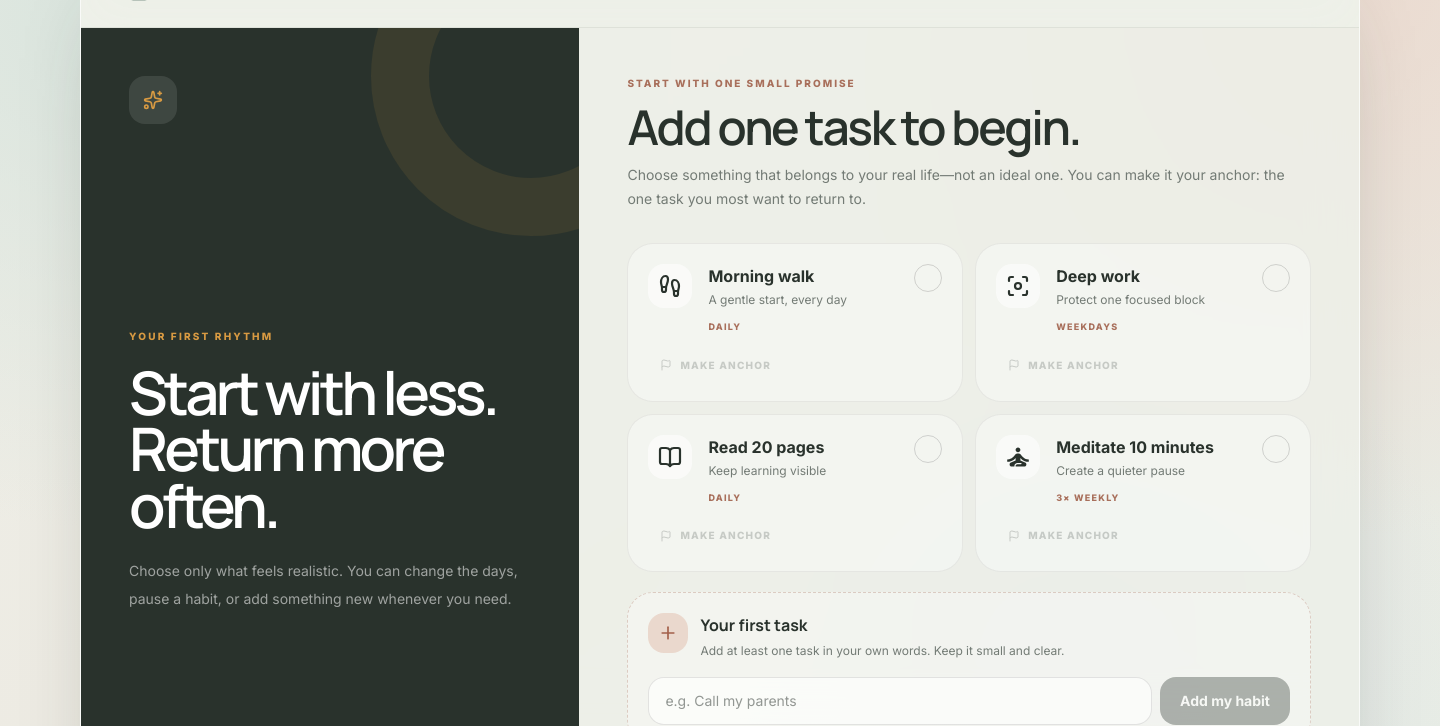
Test: OnboardingScreen › enables the next step when a recommended habit is selected
The width and height of the screenshot is (1440, 726).
What coordinates should you click on to do the following:
click the button named "Add Morning walk"
I would click on:
 (795, 299)
Its box is [648,264,942,334].
(page scrolled)
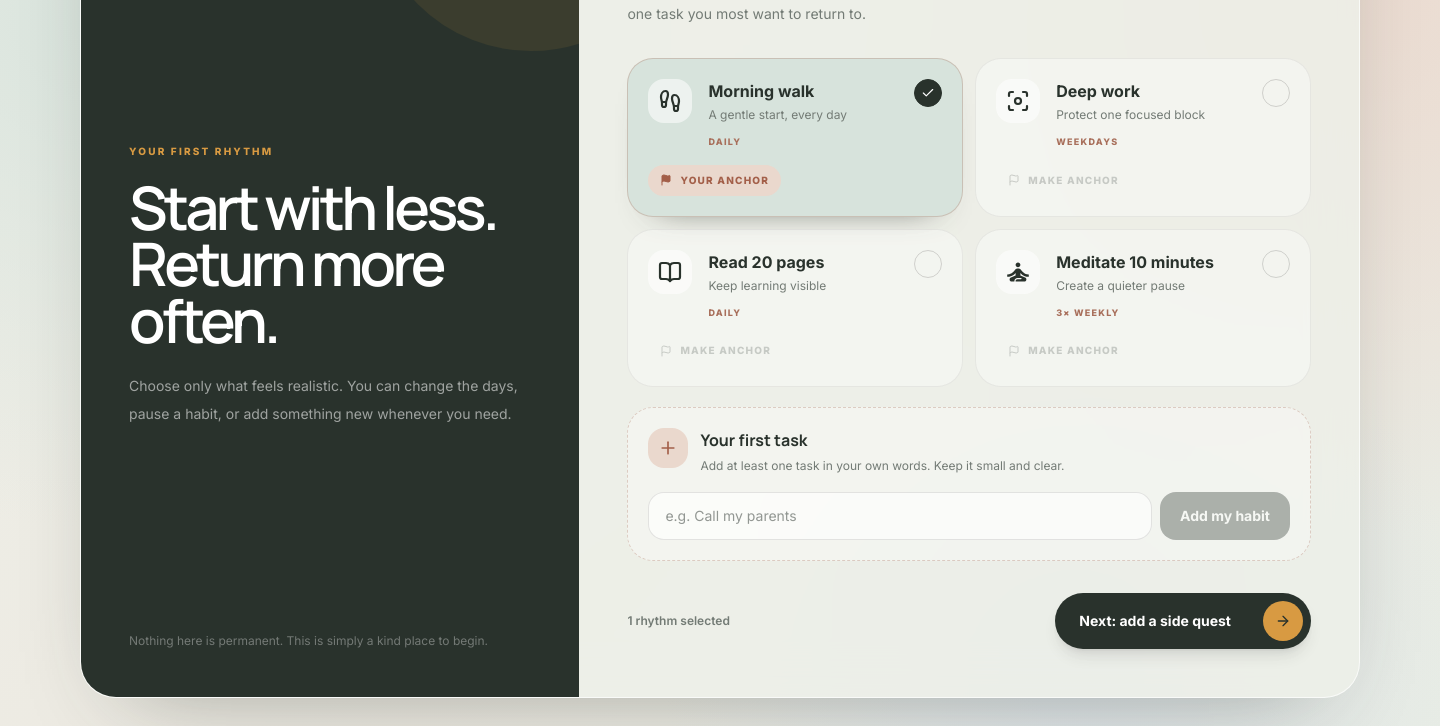
Expected: the button "Next: add a side quest" is enabled, [1055,593,1311,649]
Expected: the text "1 rhythm selected" is shown, [627,613,730,628]
